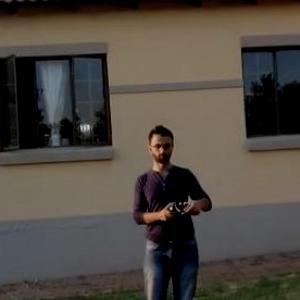follow: (126, 116, 220, 299)
